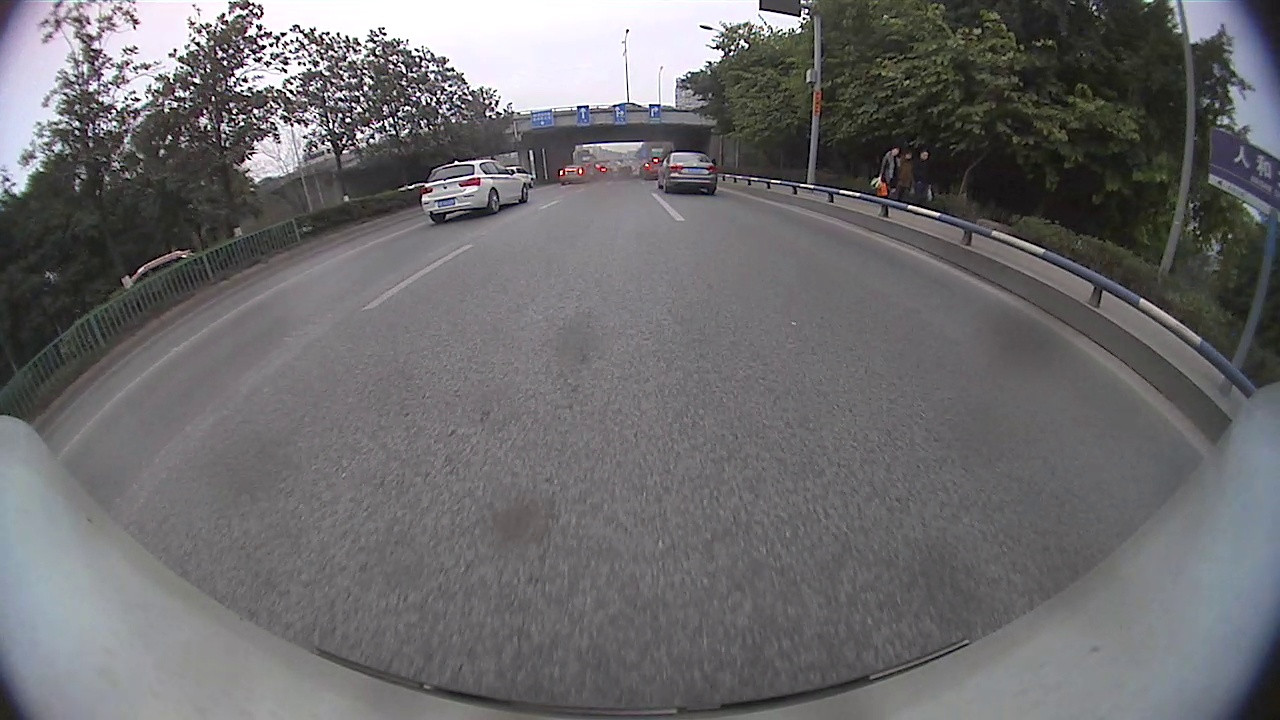car: (418, 157, 530, 226), (656, 150, 719, 196), (129, 245, 196, 288)
front: (522, 185, 532, 204)
person: (915, 149, 933, 210), (883, 147, 900, 200), (900, 149, 915, 204)
rear: (488, 190, 502, 215)
